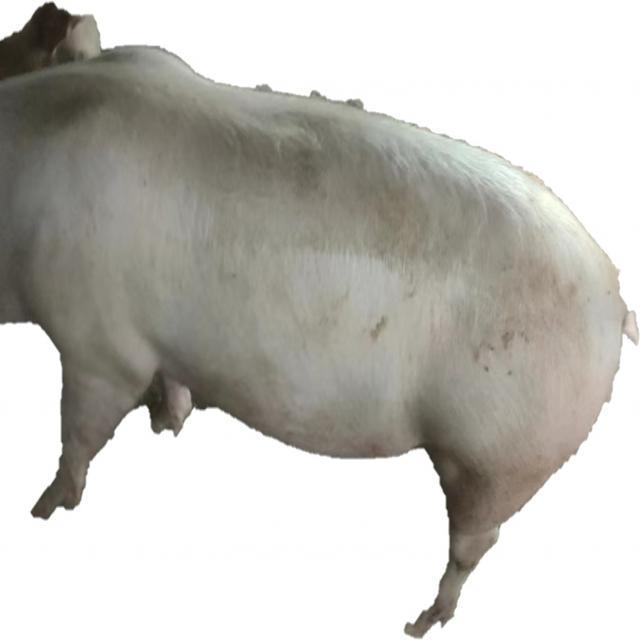pig: (0, 2, 639, 637)
